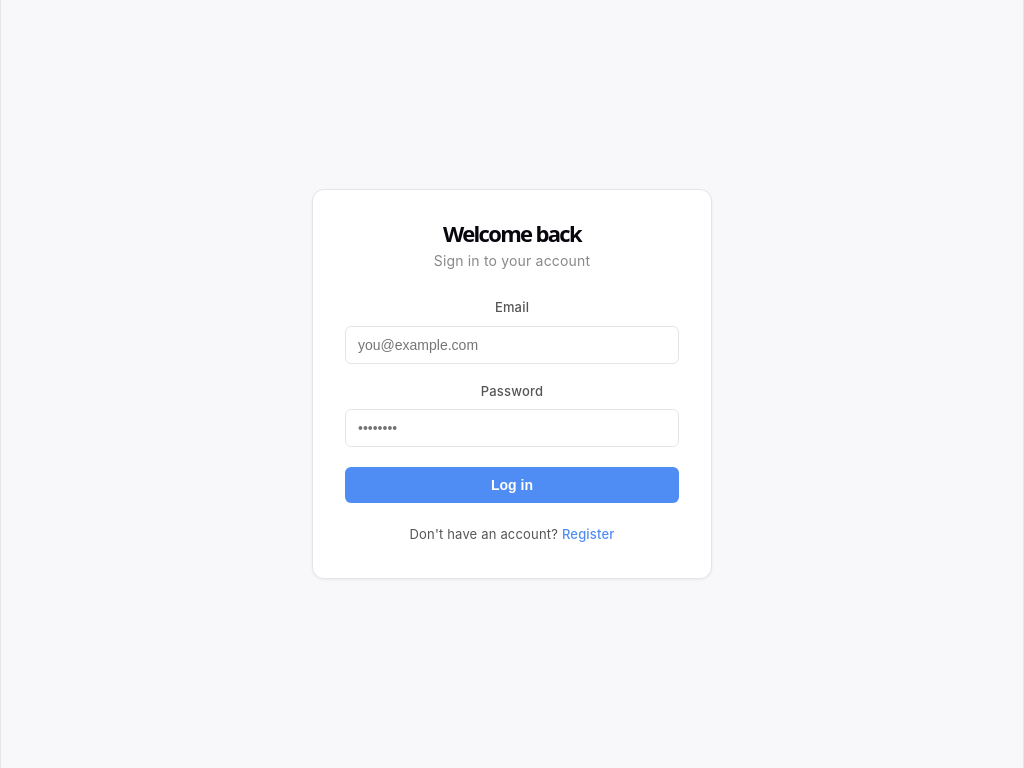
Test: LoginPage - Unit Tests › should show error for INVALID_CREDENTIALS
This screenshot has width=1024, height=768.
Step 1. Type "test@example.com" into the field labelled "Email" → x=512, y=345, box left=345, top=326, right=679, bottom=364
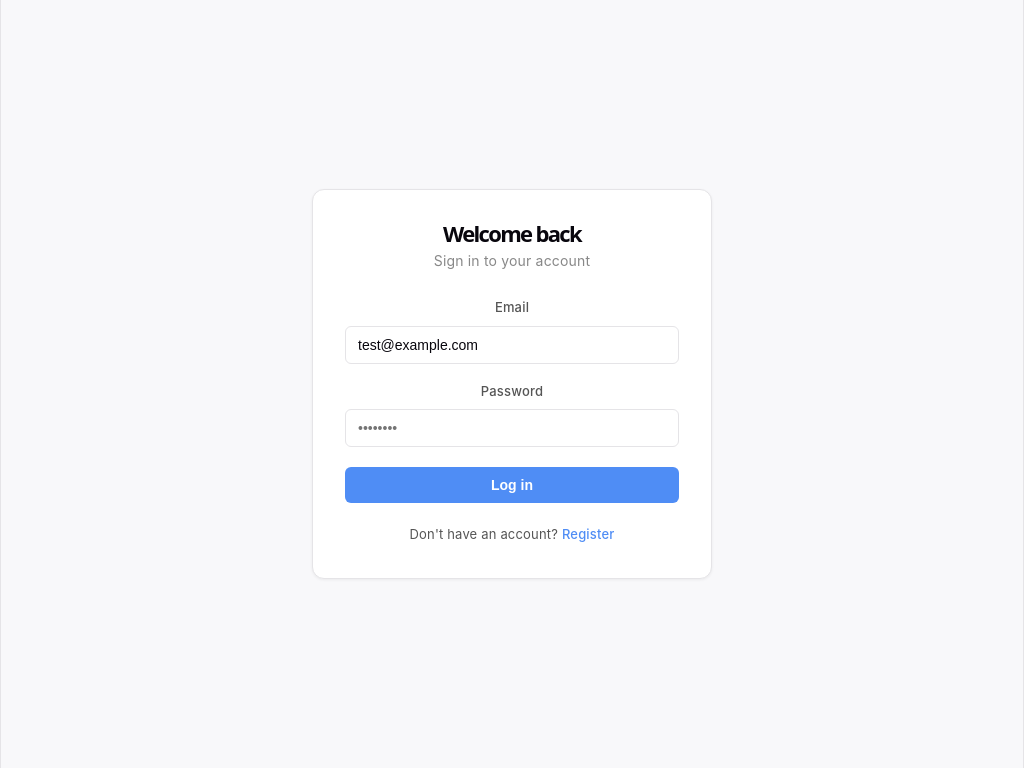
Step 2. Type "wrongpass" into the password field labelled "Password" → x=512, y=428, box left=345, top=409, right=679, bottom=447
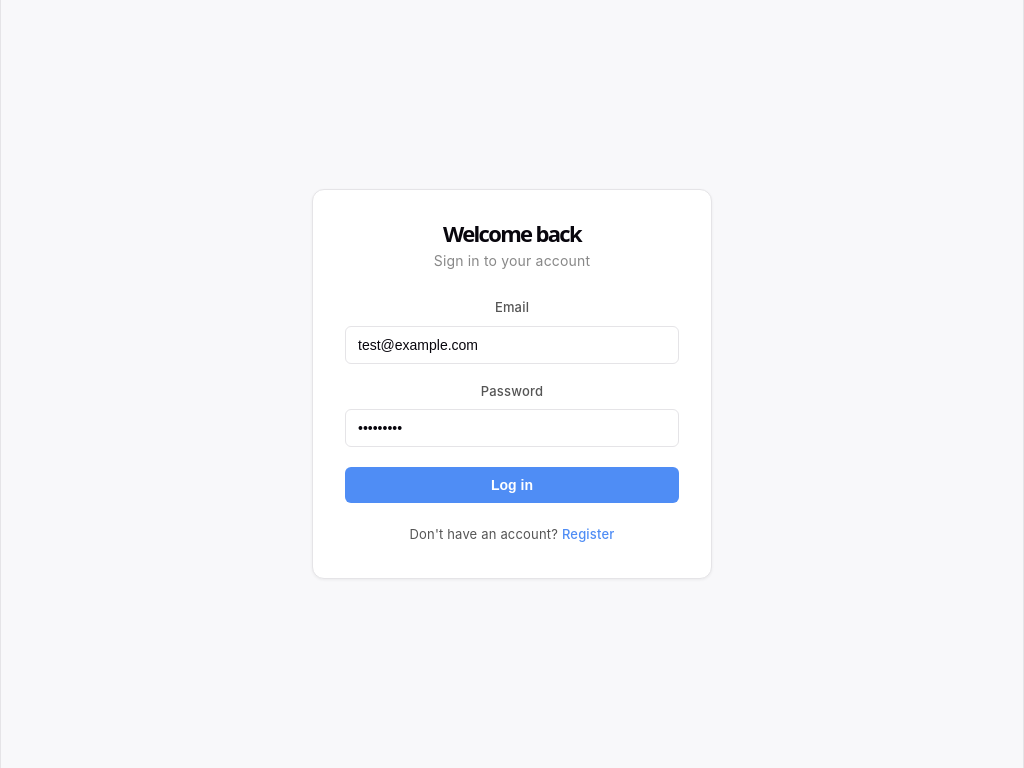
Step 3. Click the button "Log in" → x=512, y=485, box left=345, top=467, right=679, bottom=503
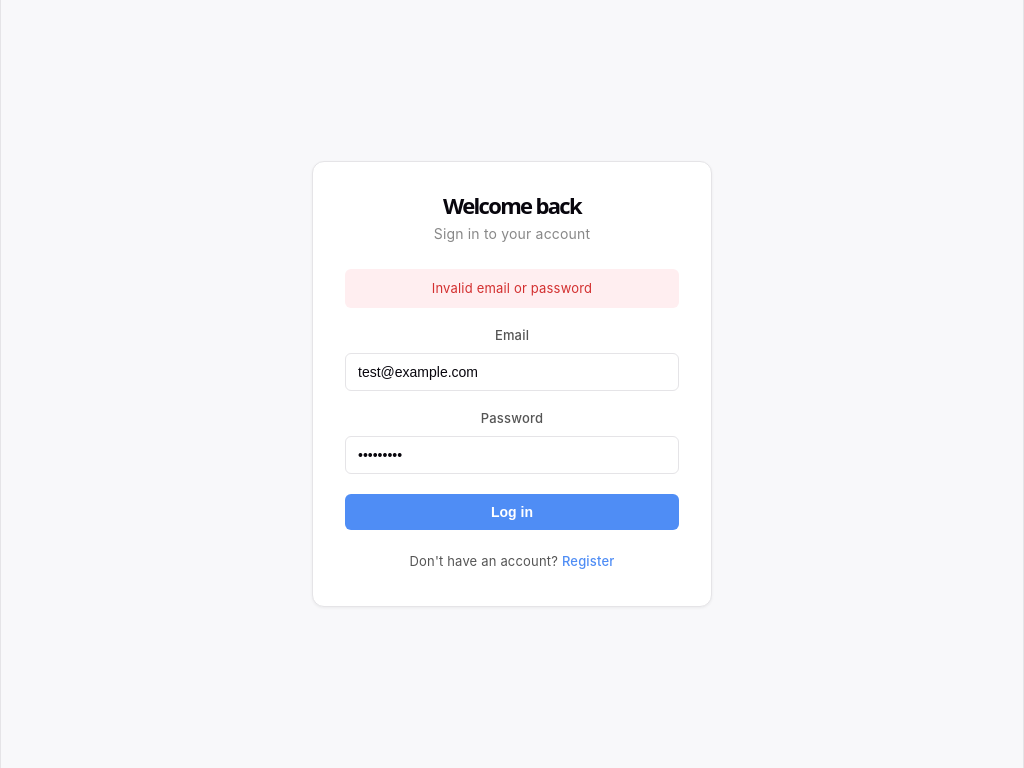
Now the message reads "Invalid email or password", box left=432, top=280, right=592, bottom=296
